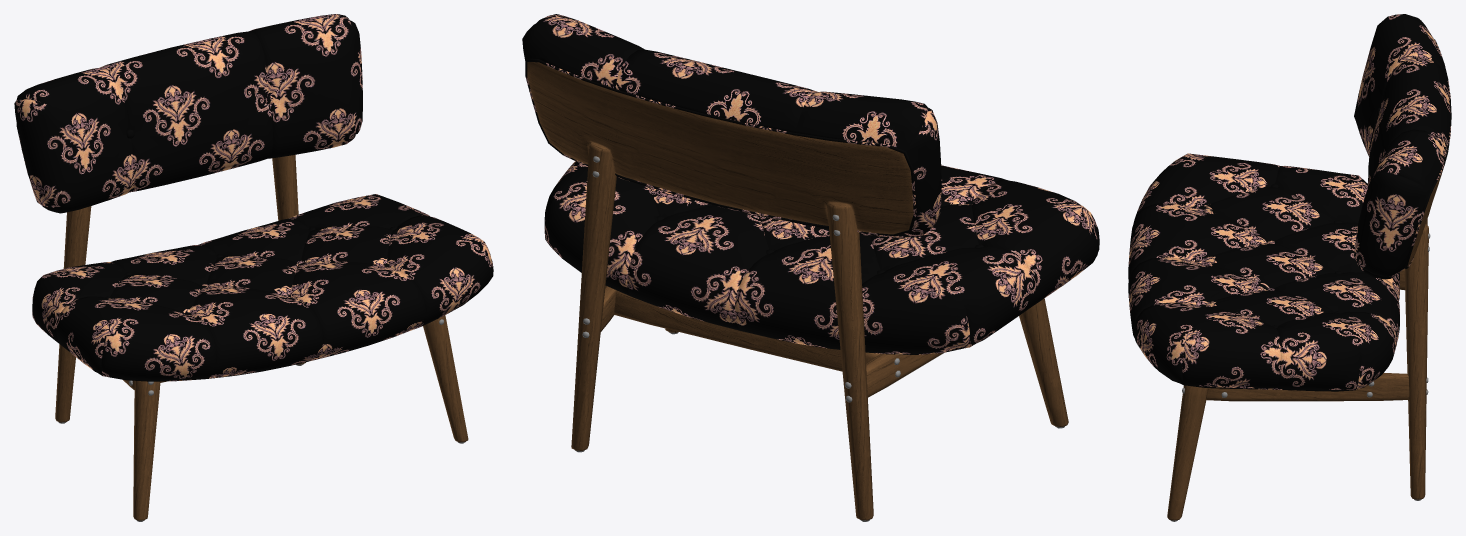
File: damask-chair.glb
3 views of the same model, side by side, from view 1: azimuth 30°, elevation 25°; view 2: azimuth 150°, elevation 25°; view 3: azimuth 270°, elevation 25° (orthographic). The views are drawn at different scales.
Parts seen in each view (by area): view 1: oval-tufted-chair_back-fabric, oval-tufted-chair_legs-frame; view 2: oval-tufted-chair_back-fabric, oval-tufted-chair_legs-frame; view 3: oval-tufted-chair_back-fabric, oval-tufted-chair_legs-frame.
Boxes of the visible parts, x1,y1,x2,y2 form: oval-tufted-chair_back-fabric: (14, 14, 493, 381); oval-tufted-chair_legs-frame: (55, 154, 468, 520); oval-tufted-chair_back-fabric: (522, 14, 1099, 354); oval-tufted-chair_legs-frame: (527, 62, 1068, 520); oval-tufted-chair_back-fabric: (1128, 14, 1451, 391); oval-tufted-chair_legs-frame: (1167, 169, 1443, 520).
Bounding box in the file's own units: 0.8286 × 0.6873 × 0.5719.
4 materials, 3 textured.
